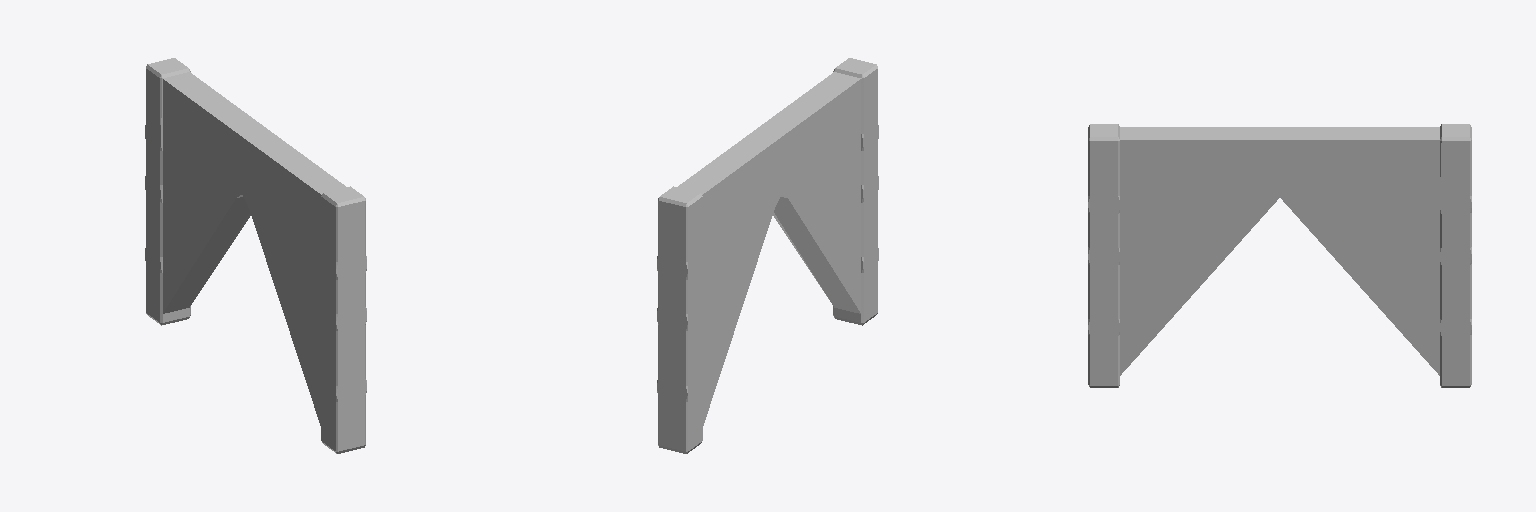
The model's file is Gate.obj.
3 views of the same model, side by side, from view 1: azimuth 30°, elevation 25°; view 2: azimuth 150°, elevation 25°; view 3: azimuth 270°, elevation 25° (orthographic).
Visible parts, largest first — view 1: Cube; view 2: Cube; view 3: Cube.
Part boxes in pixels (left/top/right/bottom): Cube: left=145, top=58, right=366, bottom=453; Cube: left=657, top=58, right=878, bottom=453; Cube: left=1088, top=124, right=1471, bottom=387.
Size of the model in its own units: 2 by 15.62 by 21.63.